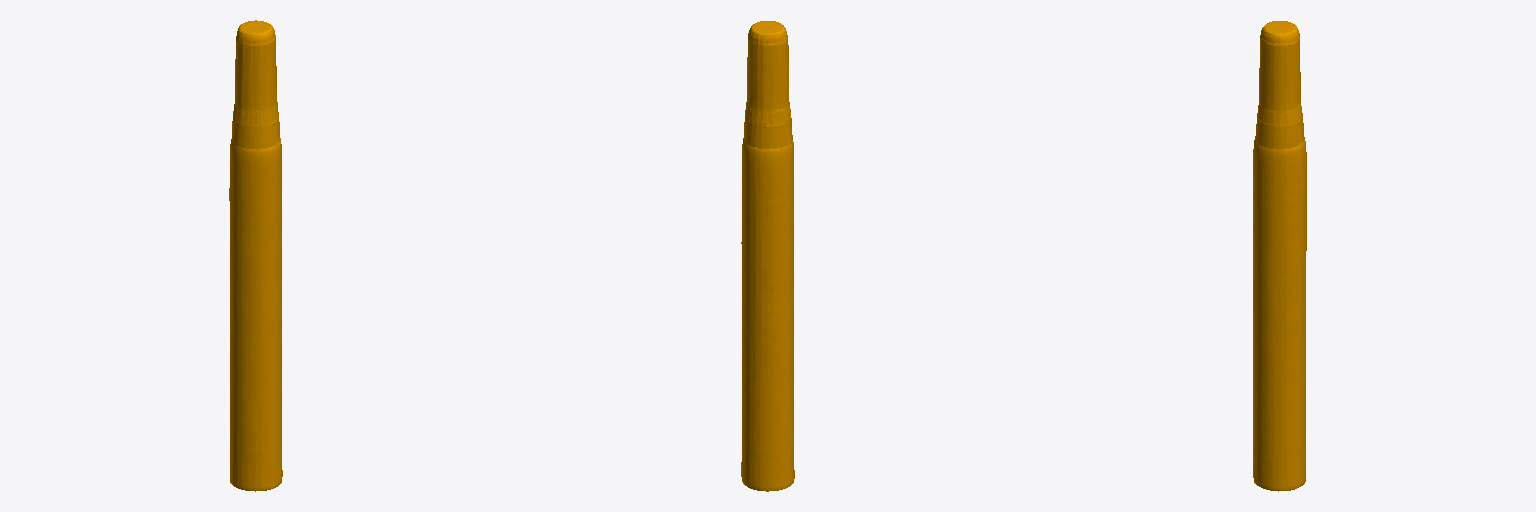
URDF robot description (sample):
<?xml version='1.0' encoding='utf-8'?>
<robot name="sample">
    <link name="sample">
        <visual>
            <origin xyz="0 0 0" rpy="1.5708 0.0 0.0" />
            <geometry>
                <mesh filename="mesh/sample.obj" scale="1.0 1.0 1.0" />
            </geometry>
        </visual>
        <collision>
            <origin xyz="0 0 0" rpy="1.5708 0.0 0.0" />
            <geometry>
                <mesh filename="mesh/sample_collision.obj" scale="1.0 1.0 1.0" />
            </geometry>
            <gazebo>
                <mu1>0.80</mu1> 
                <mu2>0.60</mu2> 
            </gazebo>
        </collision>
        <inertial>
            <mass value="0.0300" />
            <origin xyz="0 0 0" />
            <inertia ixx="1.0" ixy="0.0" ixz="0.0" iyy="1.0" iyz="0.0" izz="1.0" />
        </inertial>
        <extra_info>
            <scale>0.131000</scale>
            <version>v0.1.7</version>
            <category>marker</category>
            <description>marker</description>
            <min_height>0.12</min_height>
            <max_height>0.15</max_height>
            <real_height>0.131</real_height>
            <min_mass>0.02</min_mass>
            <max_mass>0.04</max_mass>
            <color>unknown</color>
            <rgba>[0.5, 0.5, 0.5, 1.0]</rgba>
            <generate_time>20260819100651</generate_time>
            <gs_model>""</gs_model>
        </extra_info>
    </link>
</robot>

--- What the picture shows (computed from the rendered views, not written in the file) ---
3 views of the same robot in one strip: view 1: azimuth 30°, elevation 25°; view 2: azimuth 150°, elevation 25°; view 3: azimuth 270°, elevation 25° (orthographic).
Robot: sample — 1 links, 0 joints (none); root link sample; default pose: all joints at 0.
Links seen in each view (by area): view 1: sample; view 2: sample; view 3: sample.
Boxes of the visible links, bbox=[...] form: sample: bbox=[229, 20, 282, 491]; sample: bbox=[741, 21, 794, 491]; sample: bbox=[1253, 21, 1306, 491].
Size in the robot's own frame: 0.014 by 0.014 by 0.131 metres.
Meshes: 1 distinct files referenced, 1 mesh visuals loaded (1 OBJ).
